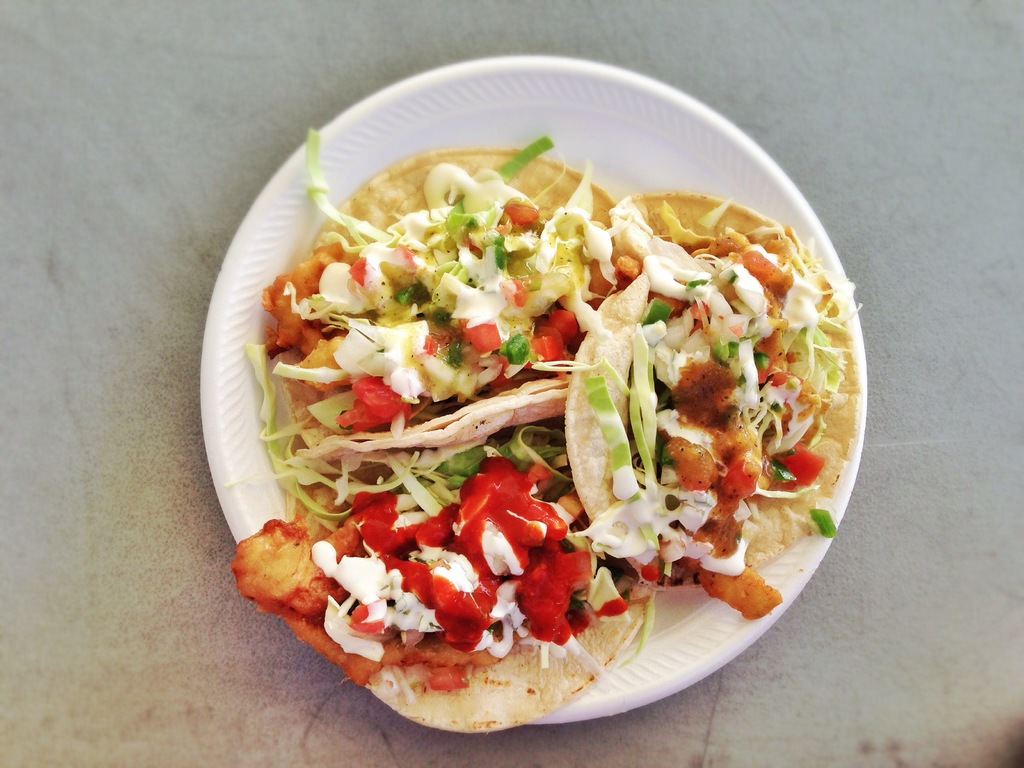taco: (257, 134, 869, 743)
